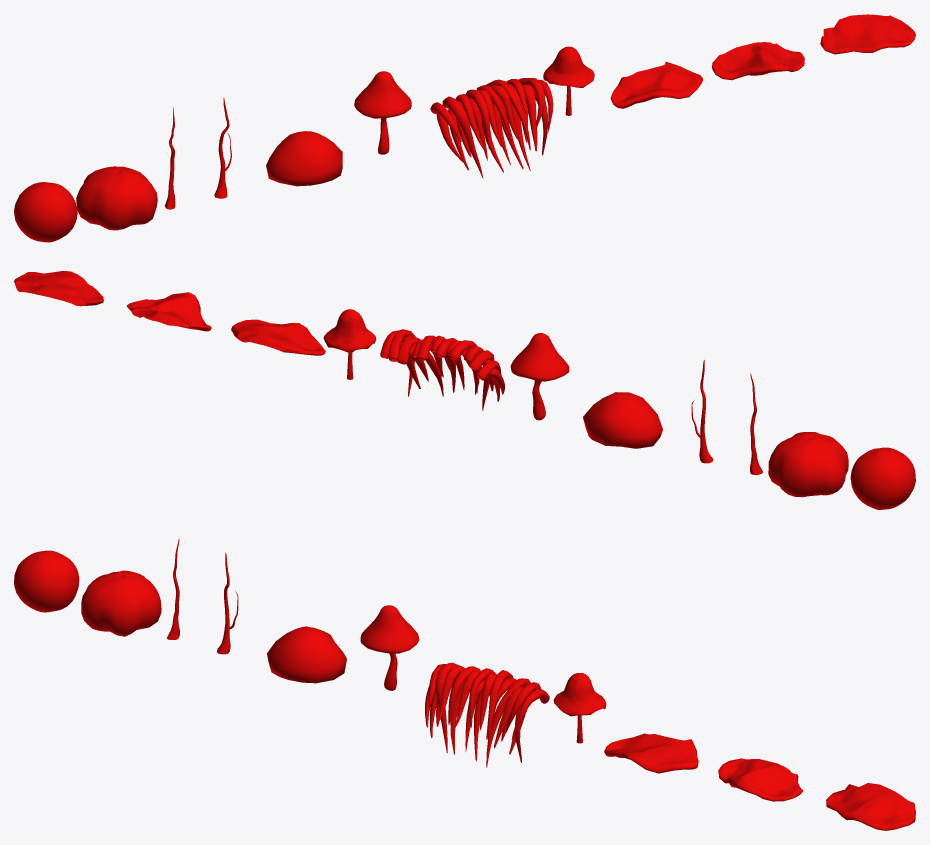
File: mushrooms_group_low.fbx
3 renders of one model, top to bottom at view 1: azimuth 30°, elevation 25°; view 2: azimuth 150°, elevation 25°; view 3: azimuth 330°, elevation 25°, orthographic. The views are drawn at different scales.
Visible parts, largest first — view 1: LionsMane_low, SporeSack_low, mushlump_low, BloatedShroom_low, Chickenofthewood3_low, Chickenofthewood1_low, Chickenofthewood2_low, mush1_low, InkShroom_low, Xylaria1_low; view 2: LionsMane_low, SporeSack_low, mushlump_low, BloatedShroom_low, mush1_low, Chickenofthewood1_low, Chickenofthewood3_low, Chickenofthewood2_low, InkShroom_low, Xylaria1_low; view 3: LionsMane_low, SporeSack_low, mushlump_low, BloatedShroom_low, Chickenofthewood3_low, Chickenofthewood1_low, Chickenofthewood2_low, mush1_low, InkShroom_low, Xylaria1_low.
Part boxes in pixels (box(x1,y1,x2,y2)): LionsMane_low: box(430, 78, 553, 177); SporeSack_low: box(76, 166, 157, 230); mushlump_low: box(266, 131, 342, 186); BloatedShroom_low: box(14, 182, 77, 242); Chickenofthewood3_low: box(820, 14, 915, 54); Chickenofthewood1_low: box(610, 62, 702, 108); Chickenofthewood2_low: box(712, 42, 804, 80); mush1_low: box(354, 71, 411, 154); InkShroom_low: box(543, 46, 594, 115); Xylaria1_low: box(214, 98, 231, 198); LionsMane_low: box(380, 329, 504, 410); SporeSack_low: box(768, 432, 848, 497); mushlump_low: box(583, 392, 662, 448); BloatedShroom_low: box(850, 447, 915, 509); mush1_low: box(510, 333, 569, 420); Chickenofthewood1_low: box(231, 319, 325, 355); Chickenofthewood3_low: box(14, 271, 103, 306); Chickenofthewood2_low: box(126, 292, 211, 331); InkShroom_low: box(323, 309, 376, 379); Xylaria1_low: box(691, 360, 713, 463); LionsMane_low: box(425, 662, 549, 767); SporeSack_low: box(81, 570, 161, 636); mushlump_low: box(267, 626, 346, 683); BloatedShroom_low: box(14, 550, 79, 612); Chickenofthewood3_low: box(826, 783, 915, 830); Chickenofthewood1_low: box(604, 733, 698, 773); Chickenofthewood2_low: box(718, 758, 803, 801); mush1_low: box(360, 605, 419, 690); InkShroom_low: box(553, 673, 606, 743); Xylaria1_low: box(217, 552, 238, 654).
Size of the model in its own units: 347 by 46.67 by 33.89.
